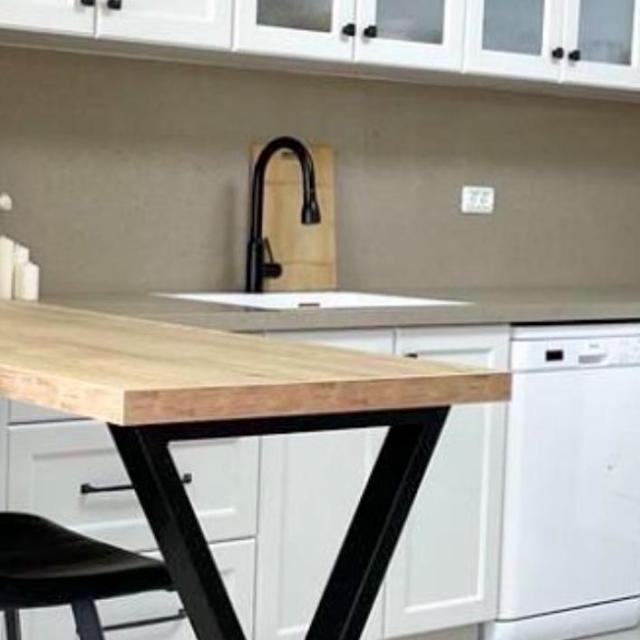dishwasher: (500, 322, 638, 639)
